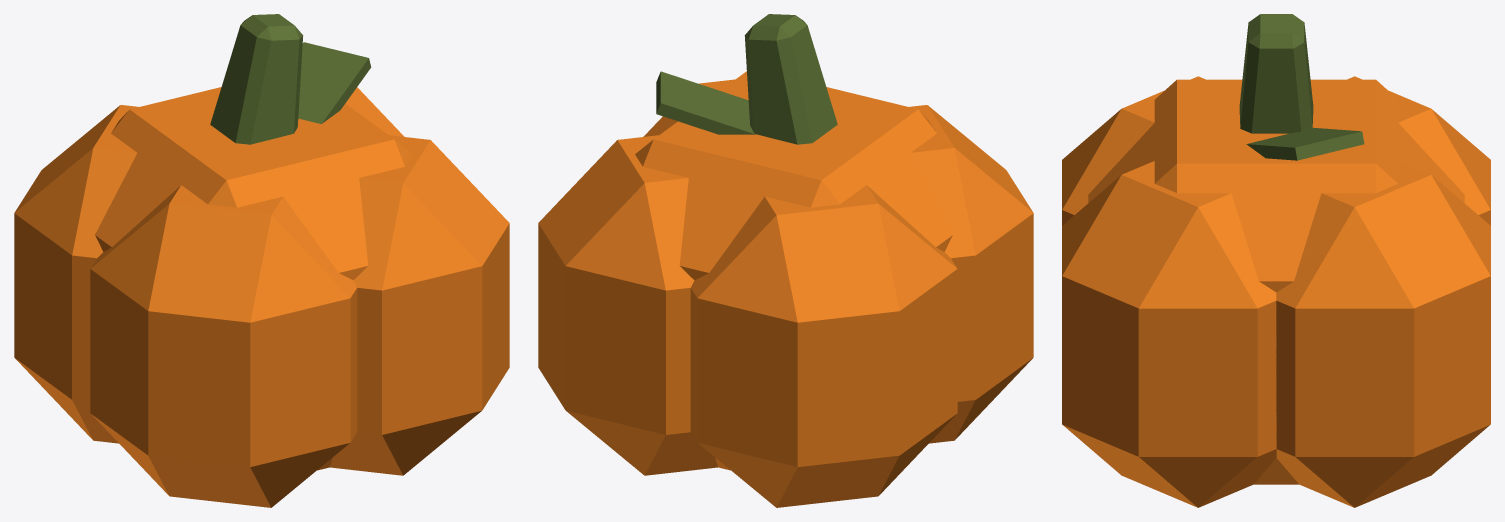
The model's file is Pumpkin.fbx.
3 views of the same model, side by side, from view 1: azimuth 30°, elevation 25°; view 2: azimuth 150°, elevation 25°; view 3: azimuth 270°, elevation 25° (orthographic). The views are drawn at different scales.
Parts seen in each view (by area): view 1: Pumpkin, Stem; view 2: Pumpkin, Stem; view 3: Pumpkin, Stem.
Part boxes in pixels (x1,y1,x2,y2): Pumpkin: [14, 87, 509, 507]; Stem: [210, 14, 371, 144]; Pumpkin: [538, 71, 1033, 507]; Stem: [656, 14, 837, 144]; Pumpkin: [1062, 76, 1490, 507]; Stem: [1239, 14, 1364, 160].
Size of the model in its own units: 1.94 by 2.13 by 1.94.
